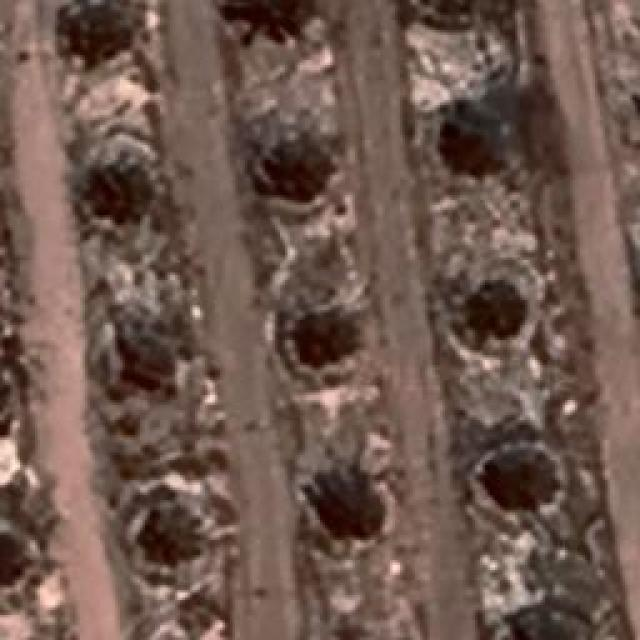PalmTree: (468, 438, 560, 528), (108, 501, 215, 571), (276, 306, 379, 376), (301, 476, 391, 552), (450, 276, 528, 352), (80, 150, 160, 218), (84, 320, 162, 388), (244, 132, 328, 195), (56, 0, 149, 55), (208, 0, 319, 46), (435, 101, 503, 161), (0, 520, 52, 597), (486, 603, 594, 640), (405, 0, 486, 29)
